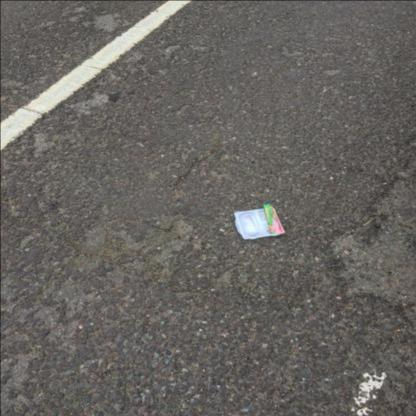Plastic bag - wrapper: (263, 203, 284, 233)
Plastic container: (234, 207, 284, 240)
